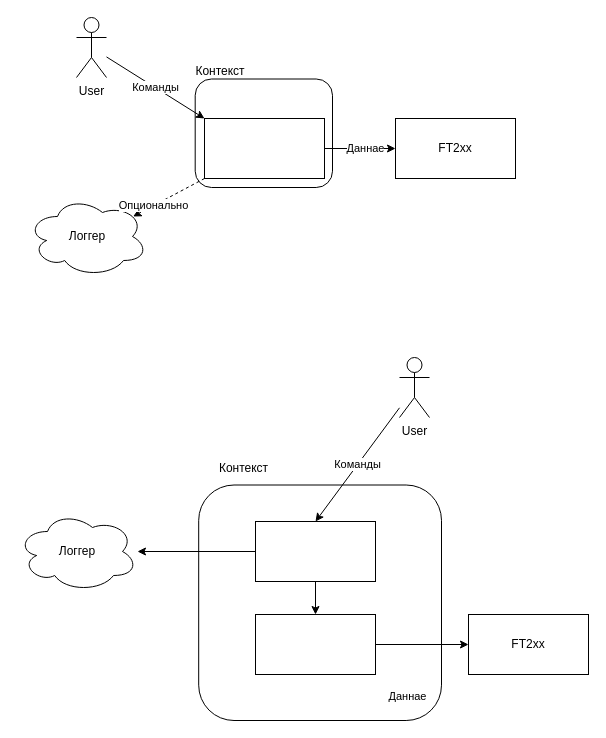
Some shapes in this 606 by 738 pixel diagram are drawn without their labels. The shapes that lost their labels are listed below. From the top down, each one's centre as x and y in pixels, then its label:
(264,148): Микросервис для доступа к FT2xx
(315,551): Сервер, принимает команды/сообщения от пользователя [socket, protobuf]
(315,644): ModuleFT2xx пересылает их в плату [ft2xxlib]
